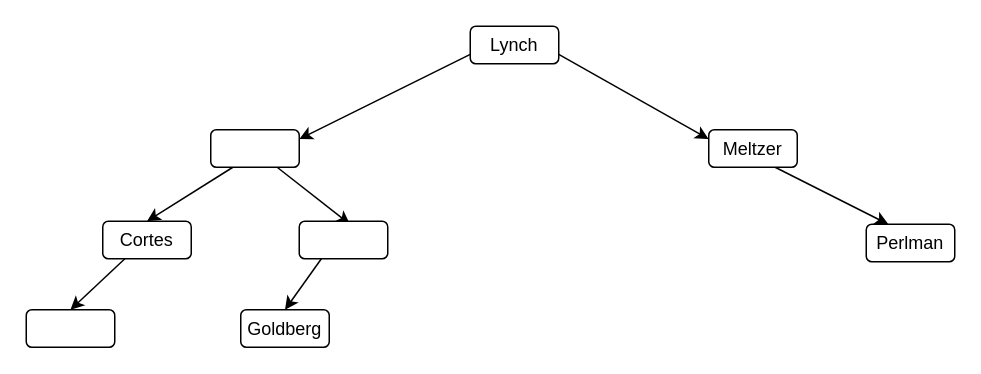
This 981x374 diagram has some shape labels left out. The shapes that lost their labels are listed below. From the top down, each one's centre as x and y in pixels, then its label:
the point at 254,147: Floyd
the point at 343,239: Harrison
the point at 70,327: Booth
